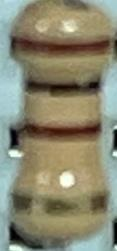Black: (26, 78, 102, 98)
Brown: (12, 37, 110, 60), (23, 120, 102, 140)
Side-Silver: (10, 188, 108, 216)
